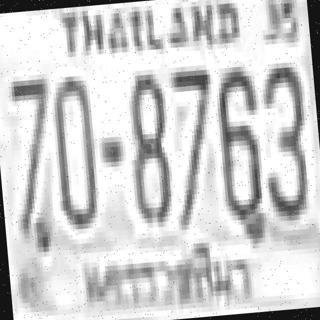N00: (48, 70, 98, 225)
N03: (255, 57, 310, 217)
N06: (211, 61, 264, 231)
N07: (5, 74, 58, 239), (167, 64, 220, 225)
N08: (121, 68, 173, 219)
P30: (76, 230, 258, 320)
